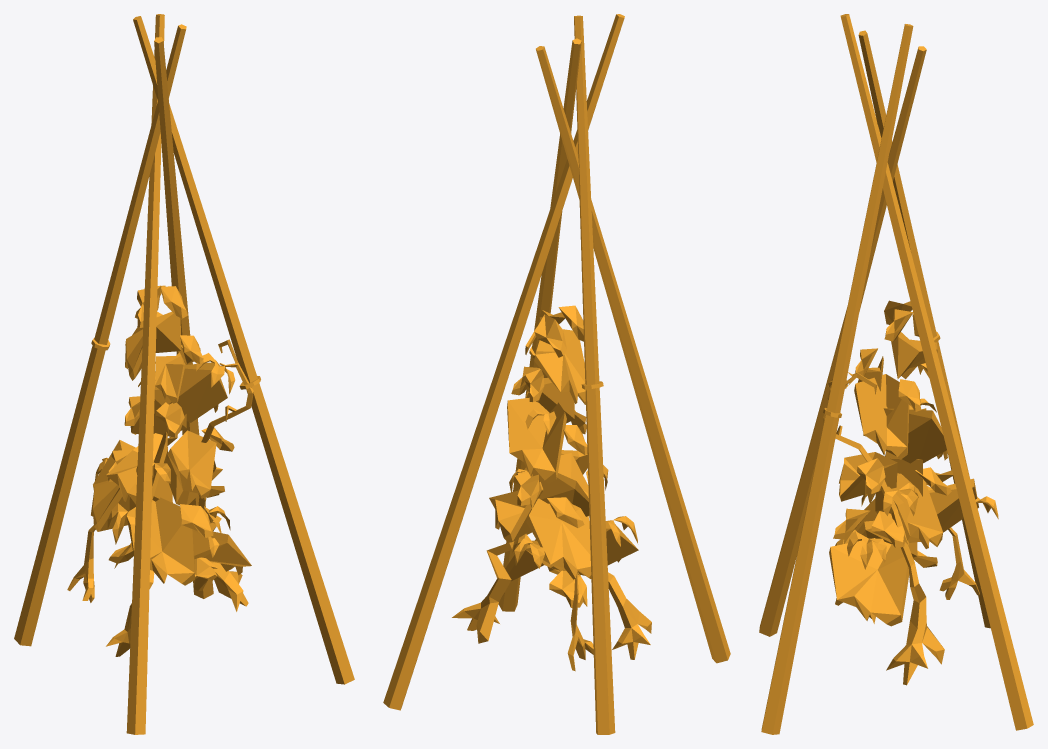
File: SM_Tomato_Dead_Harvested_Group_A.fbx
3 renders of one model, left to right at view 1: azimuth 30°, elevation 25°; view 2: azimuth 150°, elevation 25°; view 3: azimuth 270°, elevation 25°, orthographic.
Visible parts, largest first — view 1: tomato-dead-harvested-group-a; view 2: tomato-dead-harvested-group-a; view 3: tomato-dead-harvested-group-a.
Part boxes in pixels (x1,y1,x2,y2): tomato-dead-harvested-group-a: (14, 14, 354, 734); tomato-dead-harvested-group-a: (383, 14, 730, 734); tomato-dead-harvested-group-a: (759, 14, 1033, 734).
Bounding box in the file's own units: 1.05 × 2.89 × 1.11.
